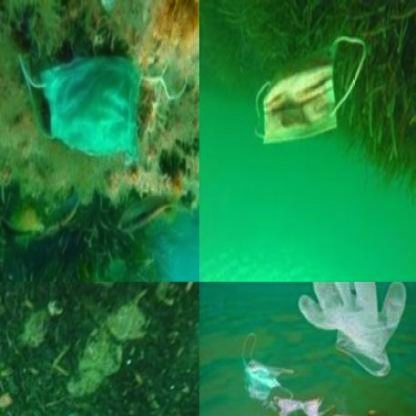Mask: (16, 51, 190, 163), (246, 25, 371, 160), (230, 325, 300, 409)
glove: (299, 282, 413, 381), (334, 282, 392, 300)
